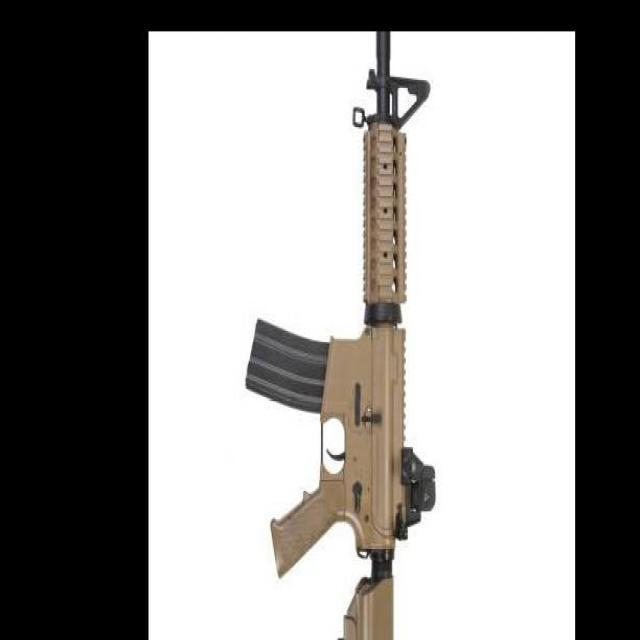weapon: (245, 30, 438, 640)
